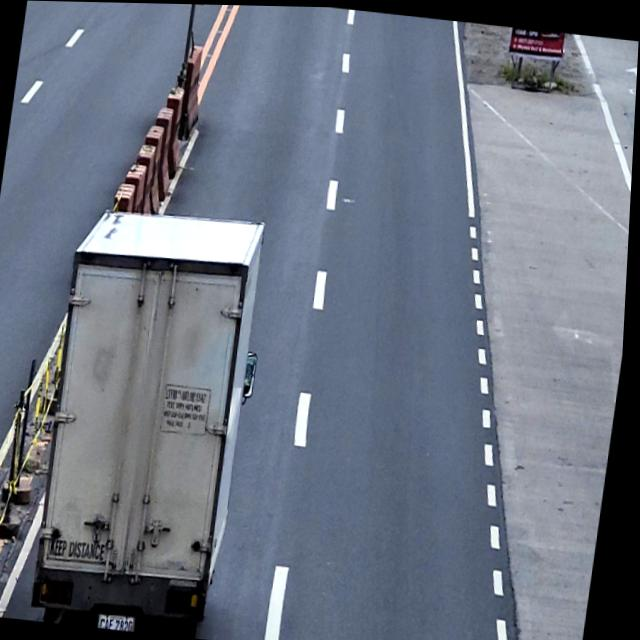License-Plate: (102, 608, 143, 629)
Truck: (29, 199, 278, 637)
